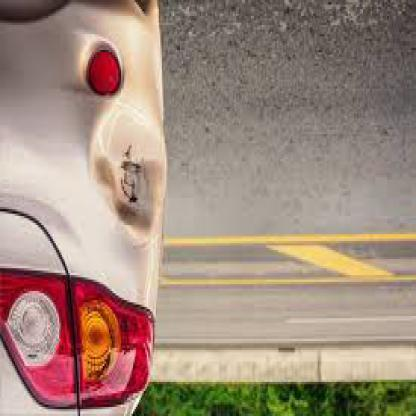dent: (93, 122, 154, 242)
